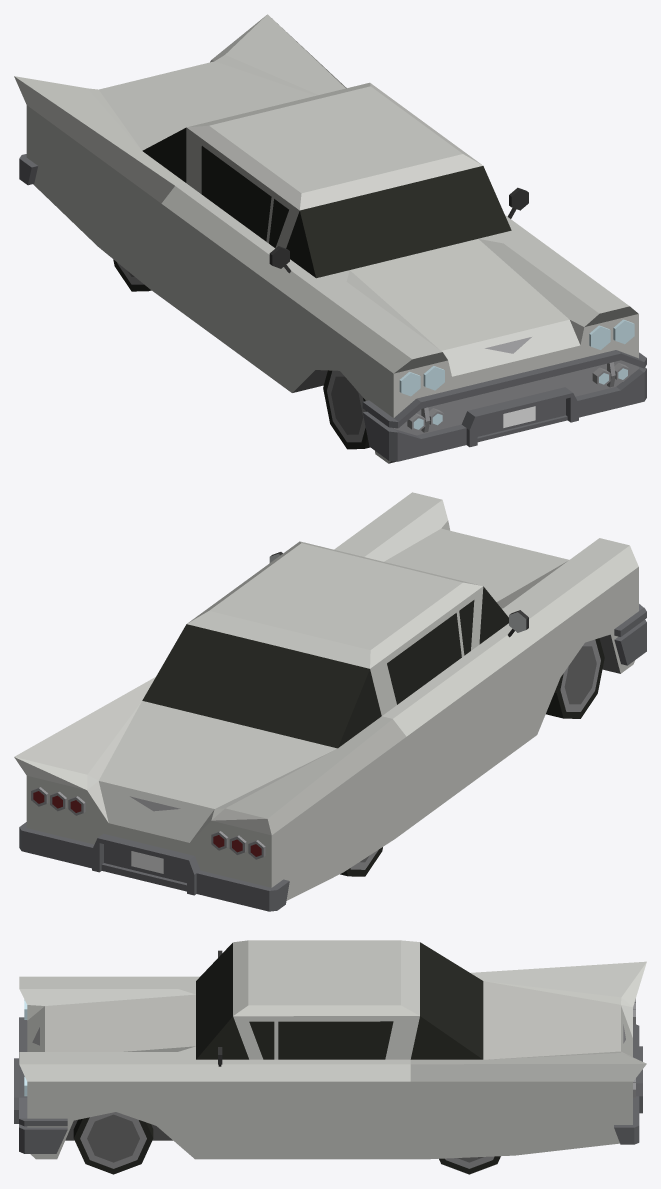
The model's file is Veh_Retro_Car_03_White.glb.
3 views of the same model, one above another, from view 1: azimuth 30°, elevation 25°; view 2: azimuth 150°, elevation 25°; view 3: azimuth 270°, elevation 25° (orthographic). The views are drawn at different scales.
Parts seen in each view (by area): view 1: Retro_Car_03_White, Wheel_FR; view 2: Retro_Car_03_White, Wheel_FR; view 3: Retro_Car_03_White, Wheel_FL, Wheel_RL.
Part boxes in pixels (bbox=[...]): Retro_Car_03_White: bbox=[14, 14, 646, 463]; Wheel_FR: bbox=[323, 370, 369, 449]; Retro_Car_03_White: bbox=[14, 492, 646, 911]; Wheel_FR: bbox=[546, 638, 604, 718]; Retro_Car_03_White: bbox=[14, 940, 646, 1159]; Wheel_FL: bbox=[73, 1112, 153, 1174]; Wheel_RL: bbox=[439, 1156, 500, 1174].
Bounding box in the file's own units: 1.16 × 0.8052 × 2.99.
1 material, 1 textured.
